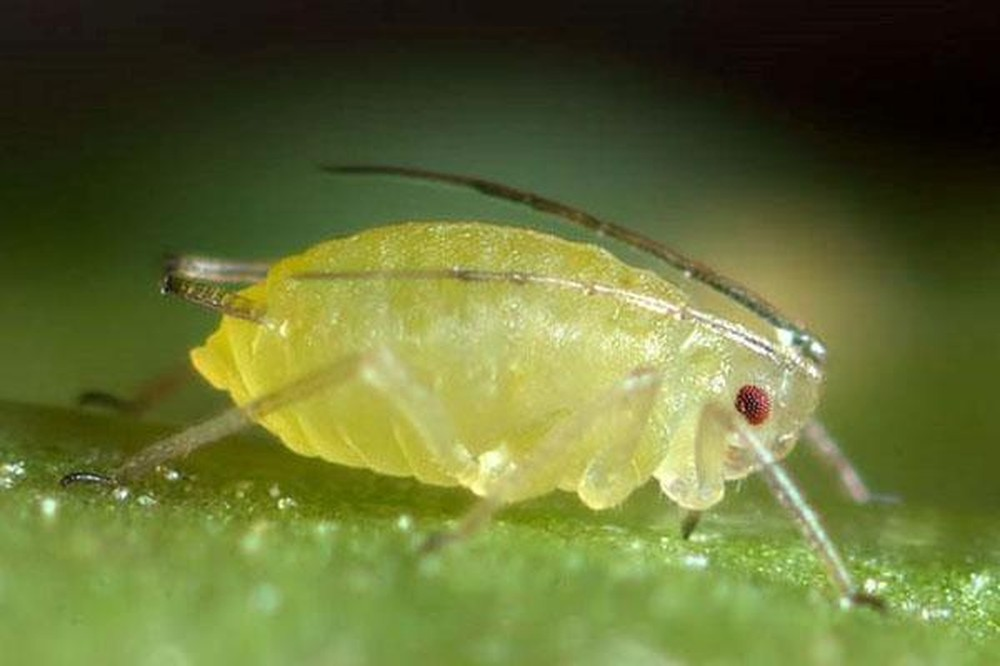Pulgon: (125, 137, 908, 614)
